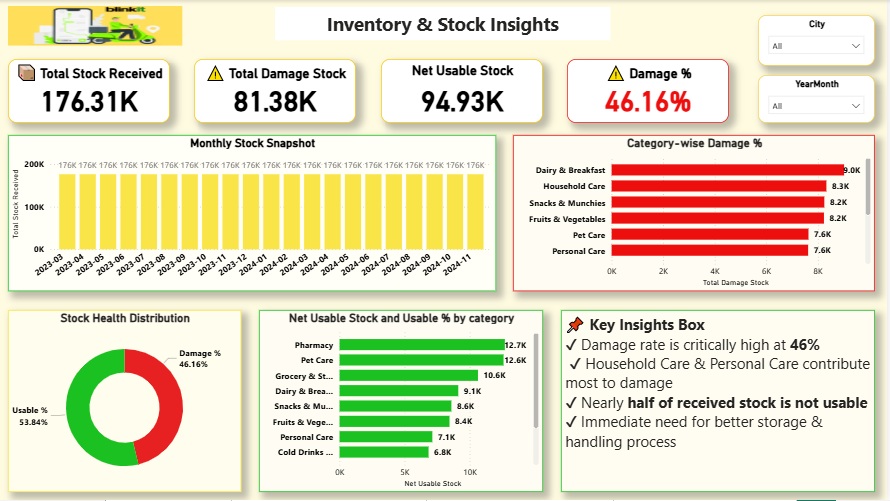

This screenshot's page, from the dashboard's own definition file:
{"tool":"powerbi","page":{"name":"Inventory & Stock Insights","canvas":[1280,720],"ordinal":3},"visuals":[{"type":"textbox","box":[398,10.2,482.9,48.3],"z":0},{"type":"image","box":[13.5,9,250.5,57],"z":1000},{"type":"card","title":"📦 Total Stock Received","fields":{"Values":["Dim_Date.Total Stock Received"]},"box":[13,85,233.3,92.2],"z":2000},{"type":"card","title":"⚠️ Total Damage Stock","fields":{"Values":["Dim_Date.Total Damage Stock"]},"box":[280.8,85,233.3,92.2],"z":3000},{"type":"card","title":"⚠️ Damage %","fields":{"Values":["Dim_Date.Damage %"]},"box":[817.9,85,233.3,92.2],"z":4000},{"type":"card","title":"Net Usable Stock","fields":{"Values":["Dim_Date.Net Usable Stock"]},"box":[550.1,85,233.3,92.2],"z":5000},{"type":"slicer","title":"City","fields":{"Values":["blinkit_customers.area"]},"box":[1093,21.6,168.5,73.4],"z":6000},{"type":"slicer","title":"YearMonth","fields":{"Values":["Dim_Date.YearMonth"]},"box":[1093,108,168.5,69.1],"z":7000},{"type":"barChart","title":"Category-wise Damage %","fields":{"Category":["blinkit_products.category"],"Y":["Dim_Date.Total Damage Stock"]},"box":[740.2,194.4,521.3,224.6],"z":8000},{"type":"columnChart","title":"Monthly Stock Snapshot","fields":{"Y":["Dim_Date.Total Stock Received"],"Category":["Dim_Date.YearMonth"]},"box":[13,194.4,702.7,224.6],"z":9000},{"type":"donutChart","title":"Stock Health Distribution","fields":{"Y":["Dim_Date.Damage %","Dim_Date.Usable %"]},"box":[13,446.4,335.5,262.1],"z":10000},{"type":"textbox","box":[809.3,446.4,452.2,262.1],"z":11000},{"type":"barChart","fields":{"Y":["Dim_Date.Net Usable Stock"],"Category":["blinkit_products.category"]},"box":[374.4,446.4,409,262.1],"z":12000}]}

Visuals, with their boxes in screenshot pixels (x1, y1, x2, y2), scaled from the page's 1280x720 canvas onto the 890x501 screenshot:
textbox: crop(277, 7, 613, 41)
image: crop(9, 6, 184, 46)
"📦 Total Stock Received" card: crop(9, 59, 171, 123)
"⚠️ Total Damage Stock" card: crop(195, 59, 357, 123)
"⚠️ Damage %" card: crop(569, 59, 731, 123)
"Net Usable Stock" card: crop(382, 59, 545, 123)
"City" slicer: crop(760, 15, 877, 66)
"YearMonth" slicer: crop(760, 75, 877, 123)
"Category-wise Damage %" barChart: crop(515, 135, 877, 292)
"Monthly Stock Snapshot" columnChart: crop(9, 135, 498, 292)
"Stock Health Distribution" donutChart: crop(9, 311, 242, 493)
textbox: crop(563, 311, 877, 493)
barChart - Dim_Date.Net Usable Stock x blinkit_products.category: crop(260, 311, 545, 493)
